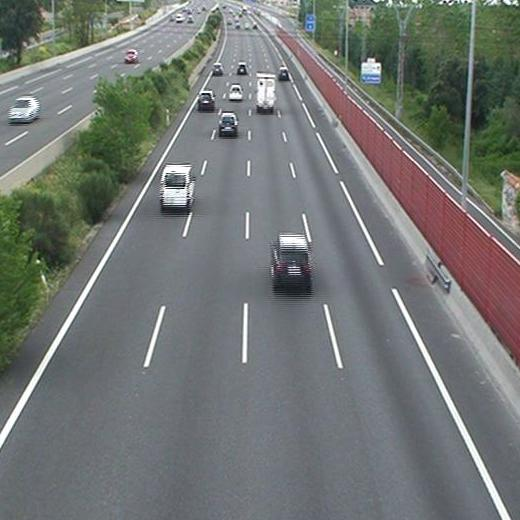car: (274, 235, 310, 290), (217, 113, 237, 135), (197, 90, 214, 110), (229, 84, 244, 101), (278, 66, 290, 80), (212, 63, 224, 75), (237, 63, 247, 74)
small-truck: (255, 73, 276, 112)
van: (160, 164, 193, 209)
